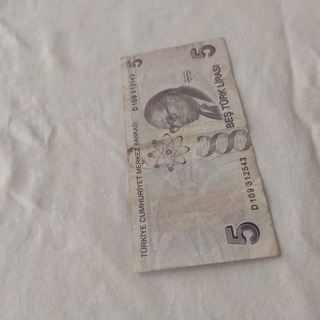5TLBack: (119, 36, 284, 275)
